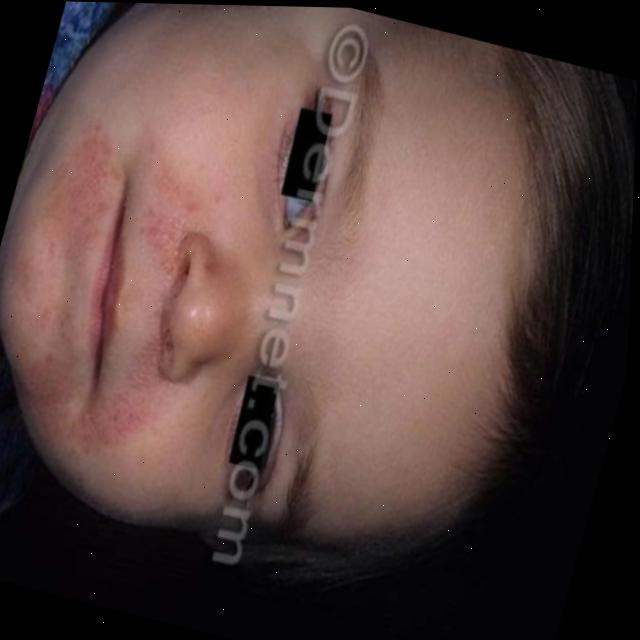Eczema: (0, 118, 231, 450)
